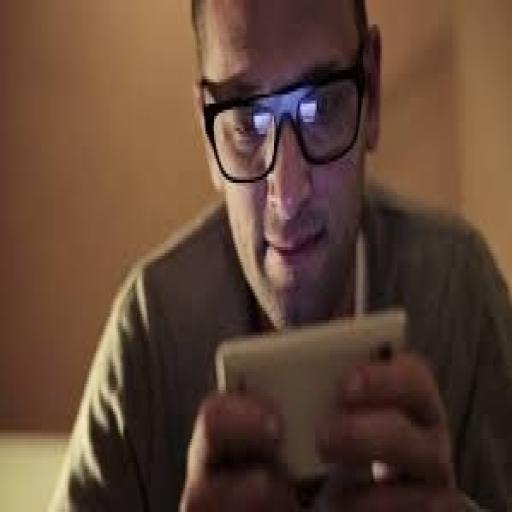texting: (44, 0, 510, 509)
